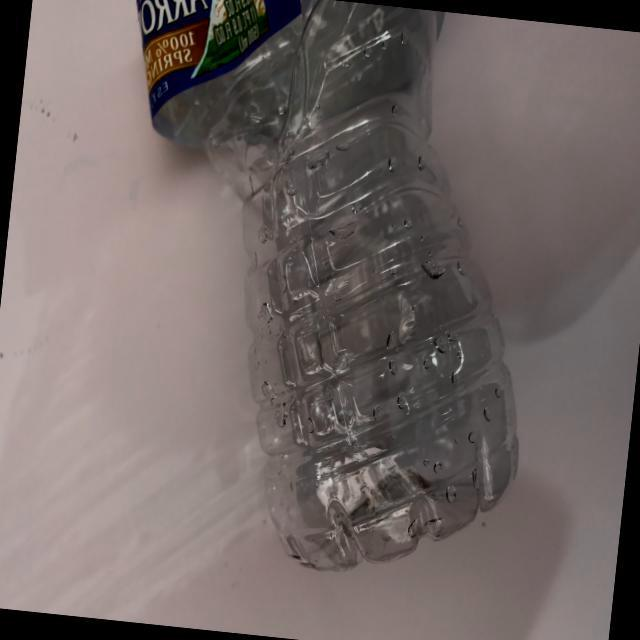plastic: (47, 0, 569, 597)
